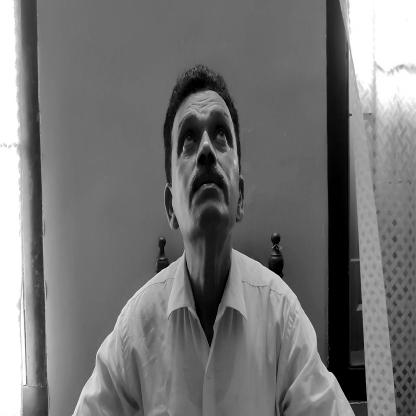Distracted: (164, 69, 250, 249)
